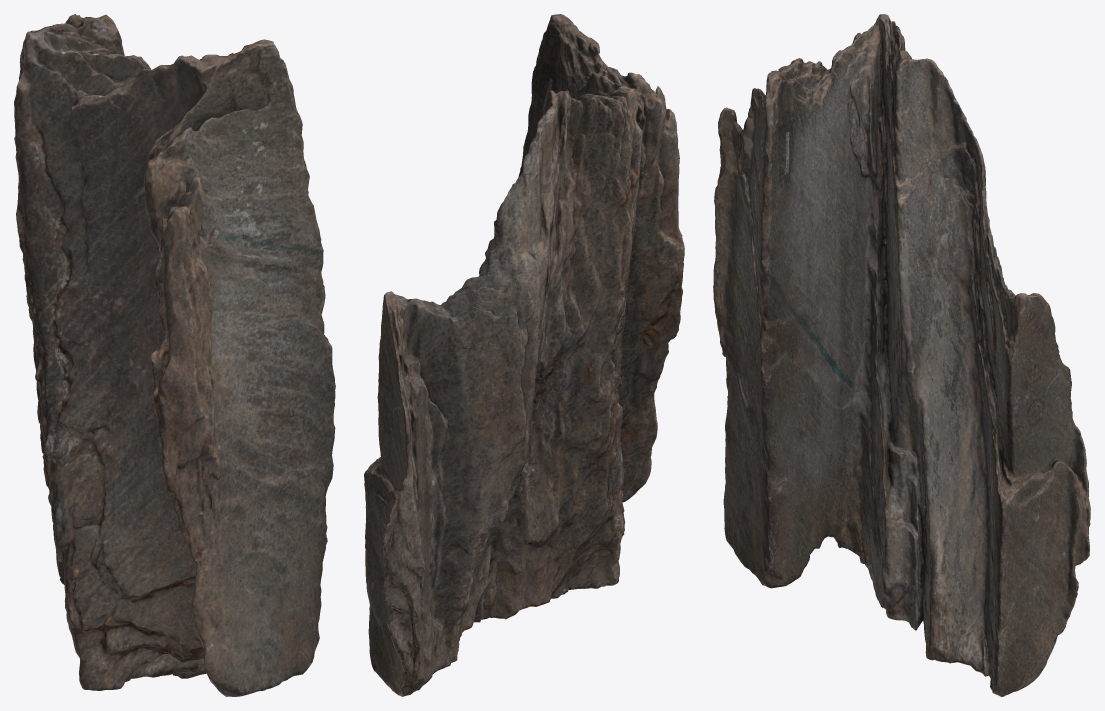
The picture shows the model from 3 angles, left to right: view 1: azimuth 30°, elevation 25°; view 2: azimuth 150°, elevation 25°; view 3: azimuth 270°, elevation 25°; orthographic projection. The views are drawn at different scales.
Visible parts, largest first — view 1: Metashape to blender; view 2: Metashape to blender; view 3: Metashape to blender.
Boxes of the visible parts, x1=… form: Metashape to blender: x1=14, y1=14, x2=335, y2=696; Metashape to blender: x1=364, y1=14, x2=684, y2=696; Metashape to blender: x1=713, y1=14, x2=1090, y2=696.
Size of the model in its own units: 0.1207 by 0.3135 by 0.181.
Materials: 1 (1 with a texture image).
